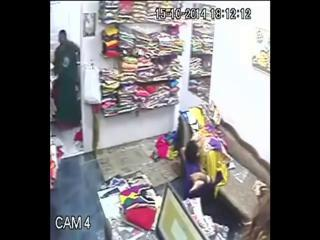Normal: (52, 30, 82, 125)
